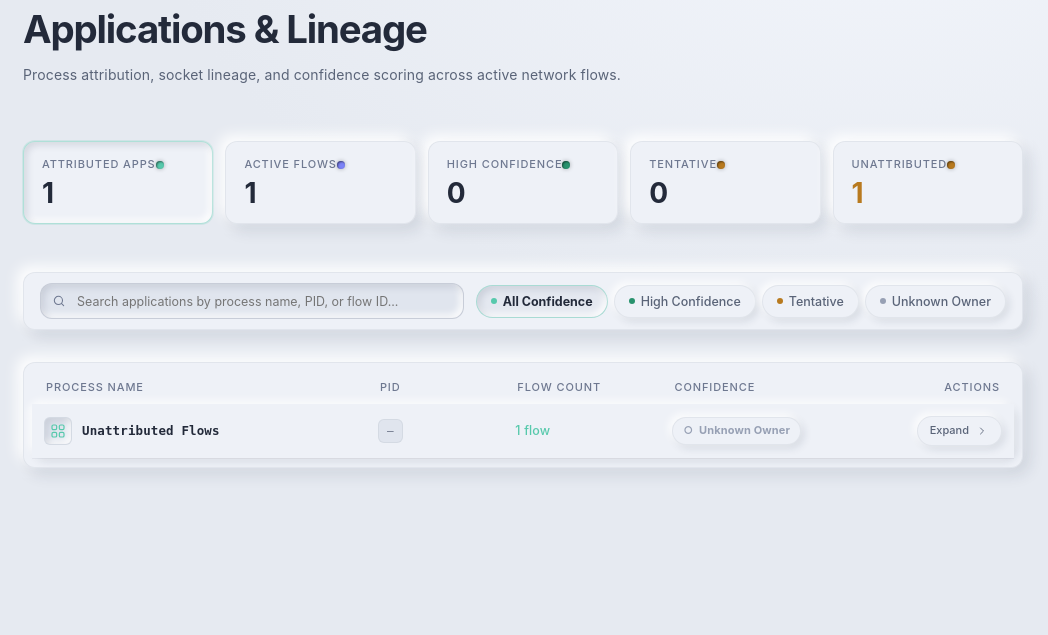
Test case: Apps Screen & useAppsController › Socket Lineage in Expanded Row Tray › surfaces lineage for Unattributed Flows when processes array is empty
The image size is (1048, 635).
Check: the text "Unattributed Flows" is shown, box [82,421,220,441]
Click the button with aria-label "Expand Unattributed Flows".
click(959, 431)  # box [917,416,1002,446]
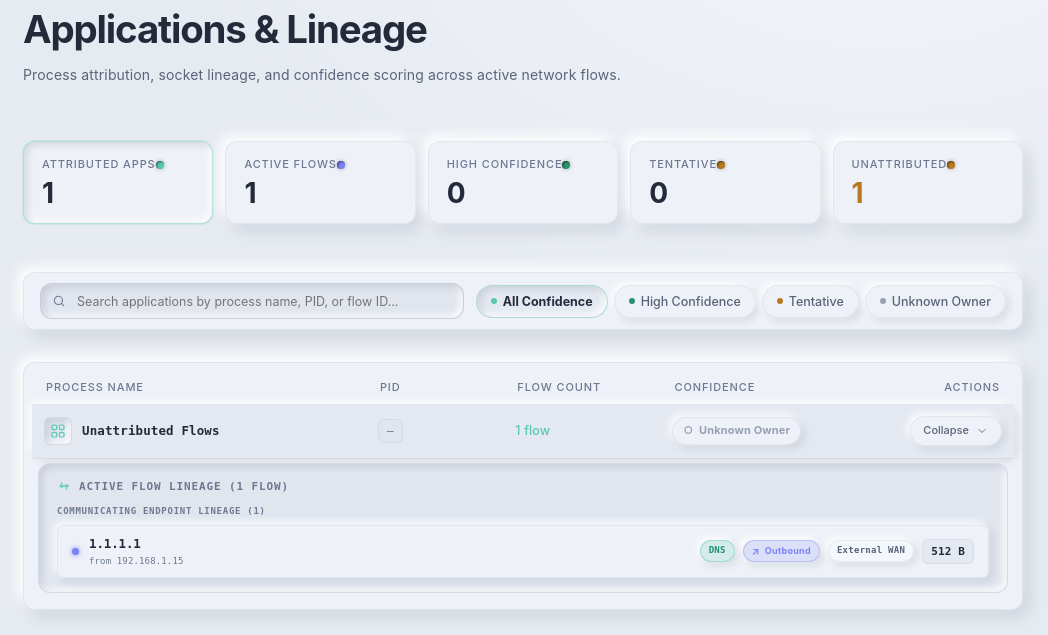
Check: the text "1.1.1.1" is shown, box [89,536,141,550]
Check: the text named "Protocol: DNS" reads "DNS", box [709,545,726,555]
Check: the element named "Direction: Outbound" shows "Outbound", box [765,545,811,556]
